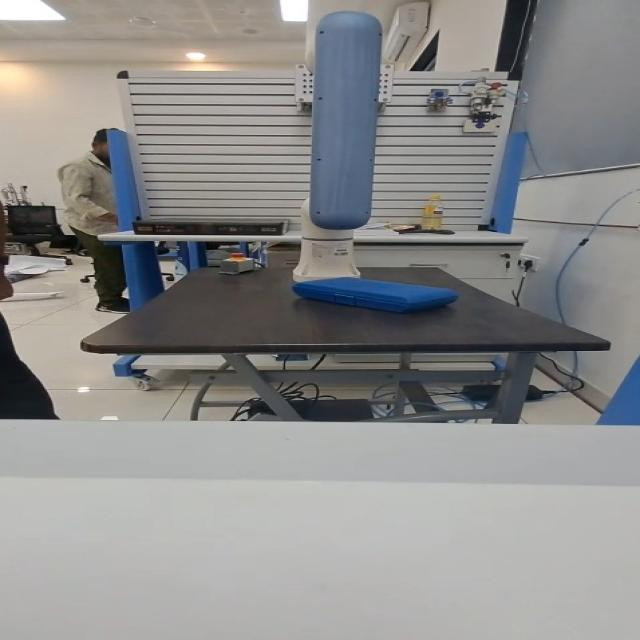top-surface: (318, 279, 442, 295)
